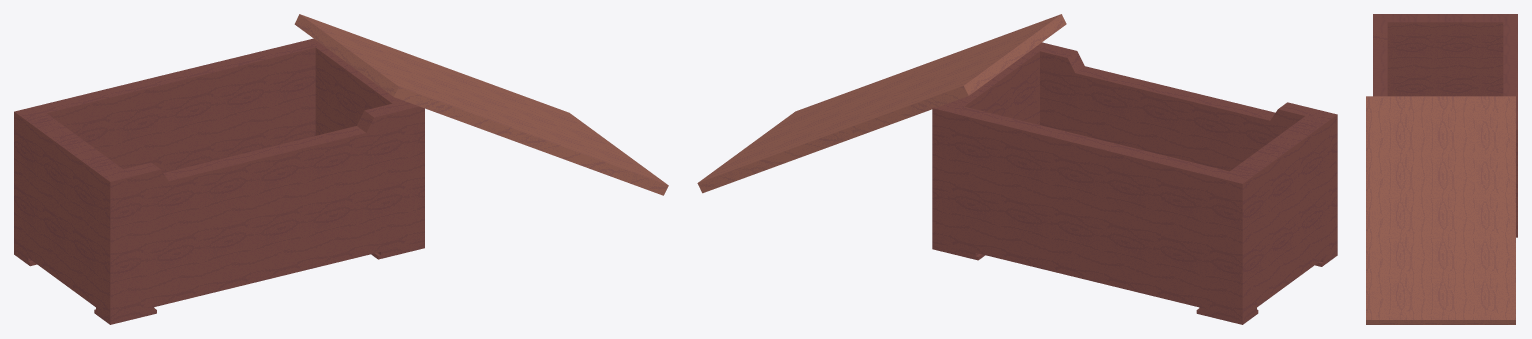
File: toyChest.glb
3 renders of one model, left to right at view 1: azimuth 30°, elevation 25°; view 2: azimuth 150°, elevation 25°; view 3: azimuth 270°, elevation 25°, orthographic. The views are drawn at different scales.
Parts seen in each view (by area): view 1: ToyBox, ToyBoxLid; view 2: ToyBox, ToyBoxLid; view 3: ToyBoxLid, ToyBox.
Part boxes in pixels (box(x1,y1,x2,y2)): ToyBox: box(14, 38, 424, 324); ToyBoxLid: box(294, 14, 668, 195); ToyBox: box(932, 42, 1337, 324); ToyBoxLid: box(697, 14, 1066, 193); ToyBoxLid: box(1366, 96, 1515, 324); ToyBox: box(1373, 14, 1517, 237).
Size of the model in its own units: 2.66 by 0.7964 by 0.836.
Materials: 2 (2 with a texture image).
